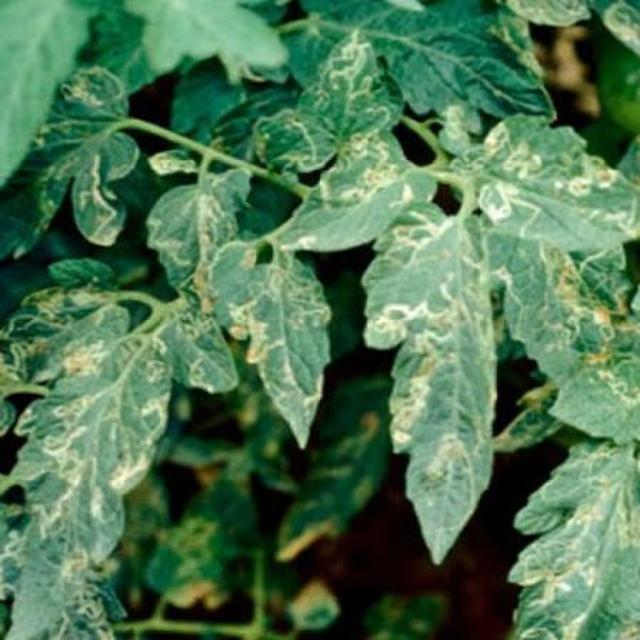Leaf Miner: (122, 180, 640, 640)
